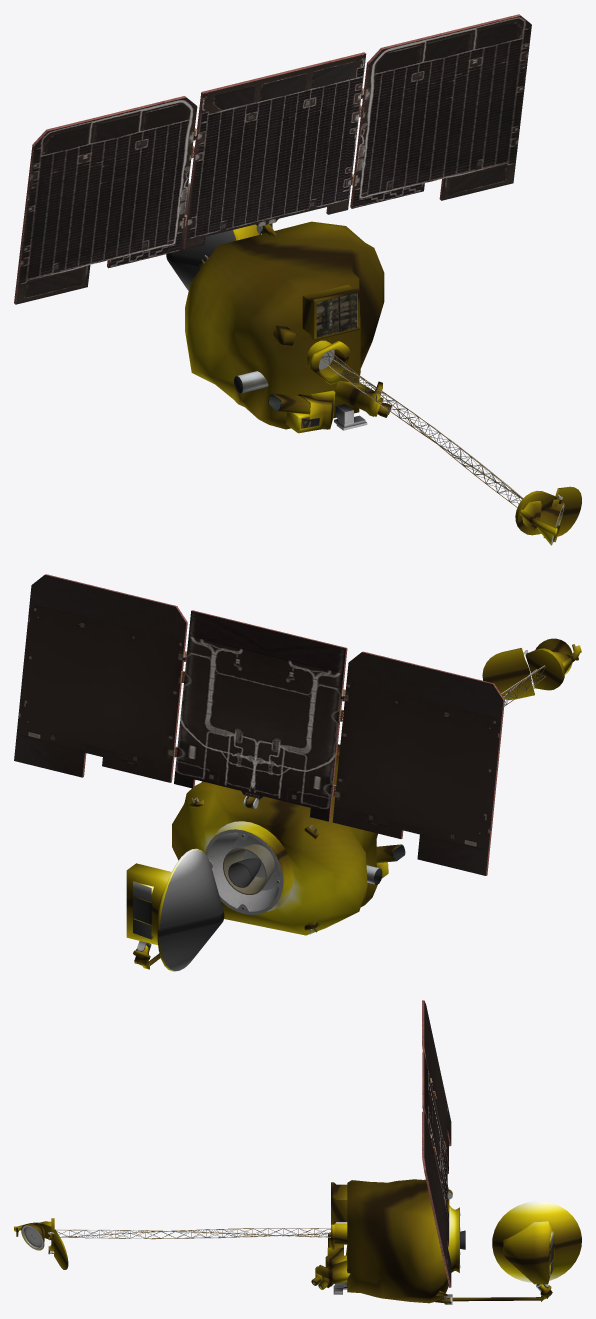
Rendered from mars_odyssey_nasa_3d_resources.glb.
3 views of the same model, one above another, from view 1: azimuth 30°, elevation 25°; view 2: azimuth 150°, elevation 25°; view 3: azimuth 270°, elevation 25° (orthographic). The views are drawn at different scales.
Visible parts, largest first — view 1: shiny_panel, foil_gold, tex_02, tex_boom, tex_01, foil_silver; view 2: tex_01, tex_02, foil_gold, foil_silver, tex_04, normal_panels; view 3: foil_gold, tex_01, tex_02, tex_boom.
Part boxes in pixels (<box>): shiny_panel: <box>15,16,531,304</box>; foil_gold: <box>185,183,581,545</box>; tex_02: <box>14,14,530,369</box>; tex_boom: <box>320,351,523,507</box>; tex_01: <box>183,88,562,504</box>; foil_silver: <box>166,184,242,393</box>; tex_01: <box>14,575,534,887</box>; tex_02: <box>45,574,504,914</box>; foil_gold: <box>126,638,581,971</box>; foil_silver: <box>159,850,382,970</box>; tex_04: <box>191,798,378,932</box>; normal_panels: <box>133,881,151,939</box>; foil_gold: <box>14,1179,581,1303</box>; tex_01: <box>48,1001,546,1303</box>; tex_02: <box>422,1000,460,1287</box>; tex_boom: <box>56,1228,330,1239</box>.
Size of the model in its own units: 5.67 by 3.36 by 8.22.
11 materials, 11 textured.
